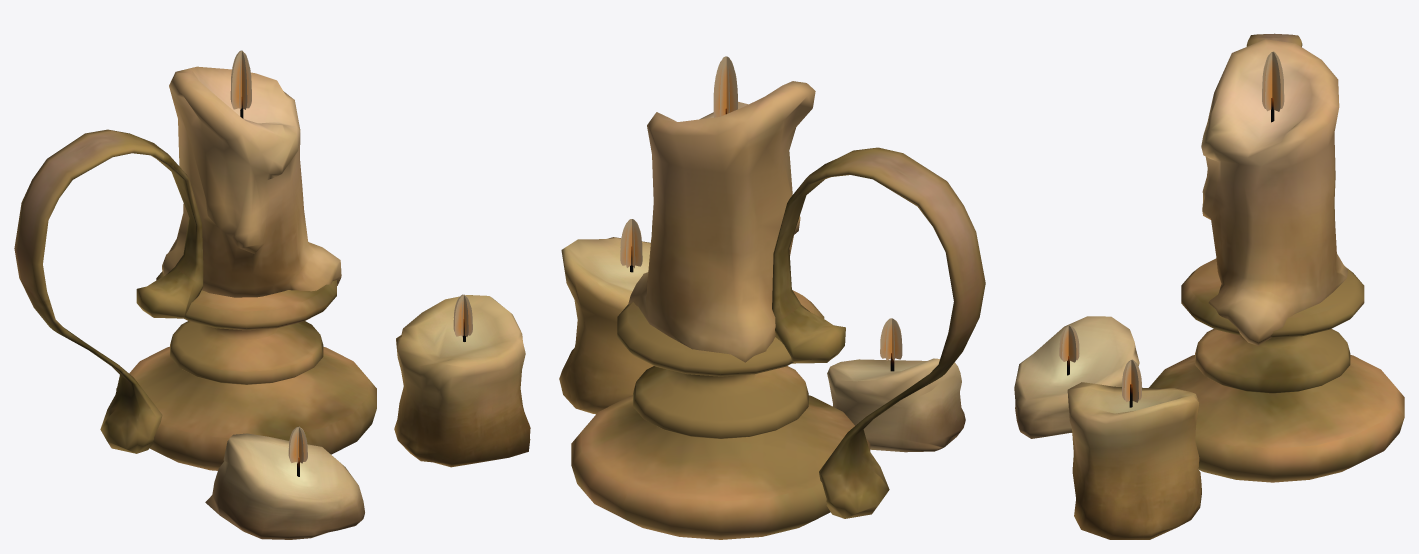
File: velas.glb
3 renders of one model, left to right at view 1: azimuth 30°, elevation 25°; view 2: azimuth 150°, elevation 25°; view 3: azimuth 270°, elevation 25°, orthographic. The views are drawn at different scales.
Parts seen in each view (by area): view 1: defaultMaterial (×6); view 2: defaultMaterial (×6); view 3: defaultMaterial (×5).
Boxes of the visible parts, x1,y1,x2,y2 form: defaultMaterial (×6): [14, 50, 530, 539]; defaultMaterial (×6): [559, 56, 985, 539]; defaultMaterial (×5): [1014, 39, 1404, 539].
Size of the model in its own units: 2 by 1.83 by 1.57.
Materials: 7 (7 with a texture image).
